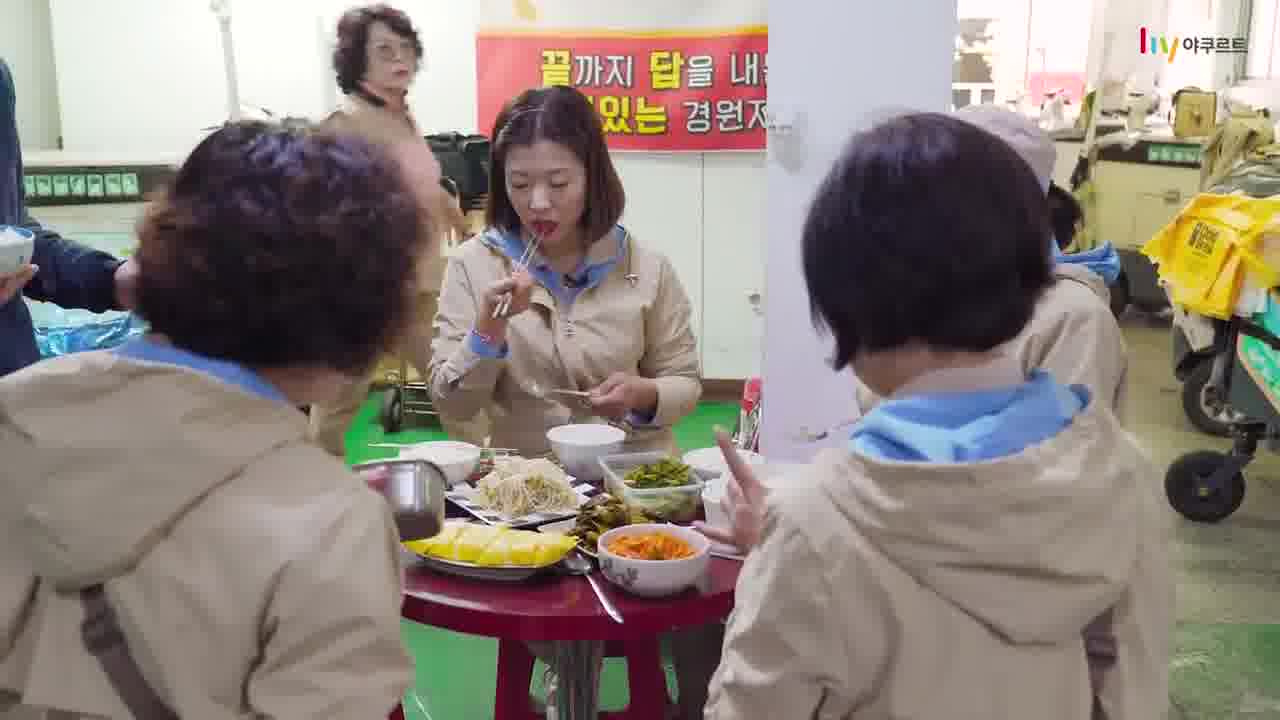Yakurut: (694, 136, 1162, 720), (1, 135, 426, 720), (479, 105, 738, 454)
